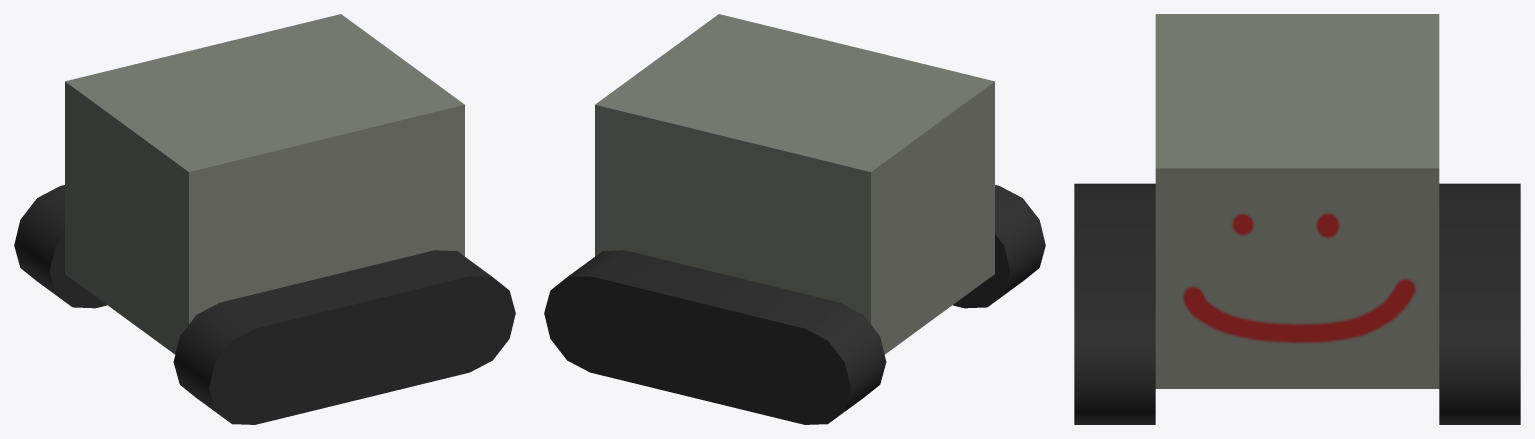
File: ugly.glb
3 renders of one model, left to right at view 1: azimuth 30°, elevation 25°; view 2: azimuth 150°, elevation 25°; view 3: azimuth 270°, elevation 25°, orthographic. The views are drawn at different scales.
Visible parts, largest first — view 1: Cube, Track; view 2: Cube, Track; view 3: Cube, Track.
Part boxes in pixels (<box>): Cube: <box>65,14,464,354</box>; Track: <box>14,185,515,424</box>; Cube: <box>595,14,994,354</box>; Track: <box>544,185,1045,424</box>; Cube: <box>1155,14,1439,388</box>; Track: <box>1074,183,1520,424</box>.
Size of the model in its own units: 0.5 by 0.365 by 0.55.
Materials: 2 (2 with a texture image).
